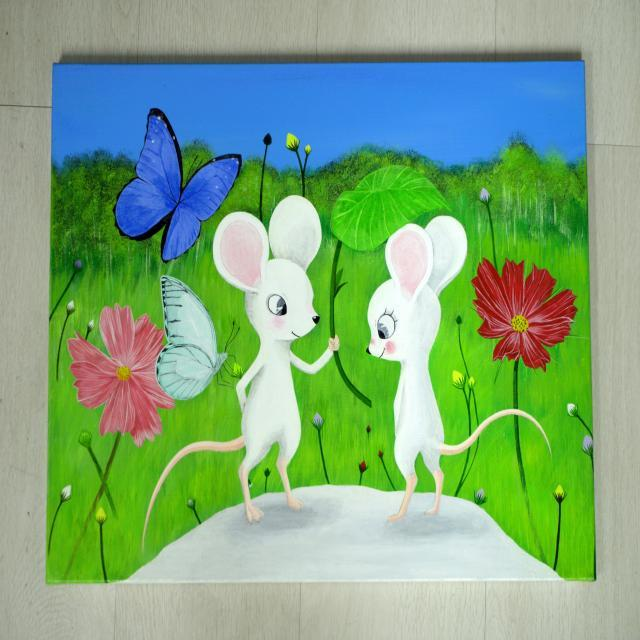painting: (47, 61, 595, 582)
